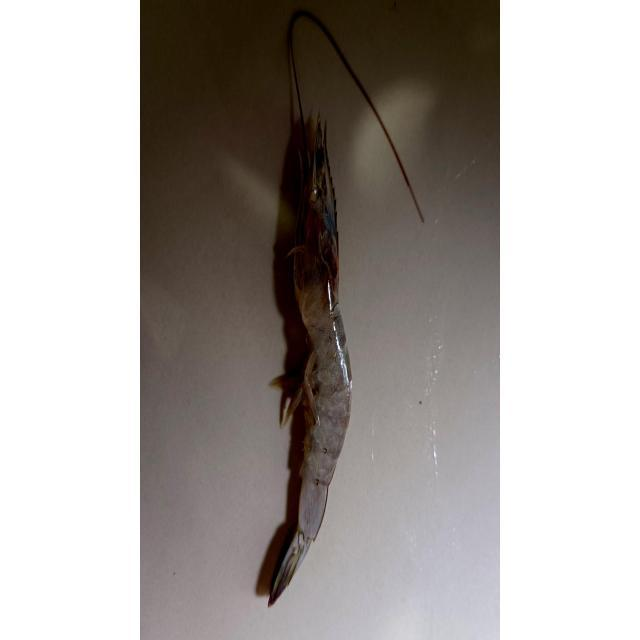shrimp: (269, 119, 352, 605)
